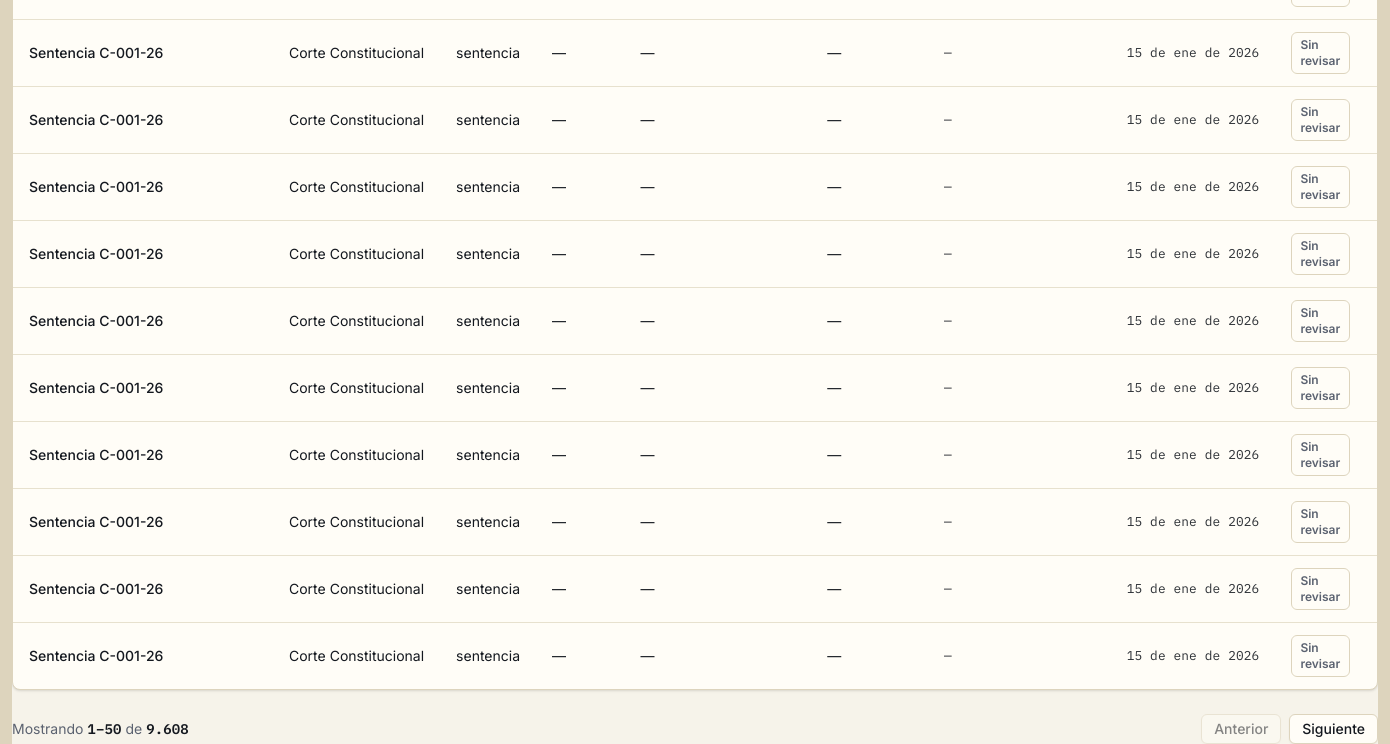
Scenario: DocumentsPage › shows the current range and total (thousands-grouped) in the pagination footer
(page scrolled)
Expected: the text "1–50" is shown, 87,720 -> 122,738
Expected: the text "9.608" is shown, 146,720 -> 189,738
Step 1. Click the button "Siguiente" → (1334, 729), box 1289,714 -> 1378,743
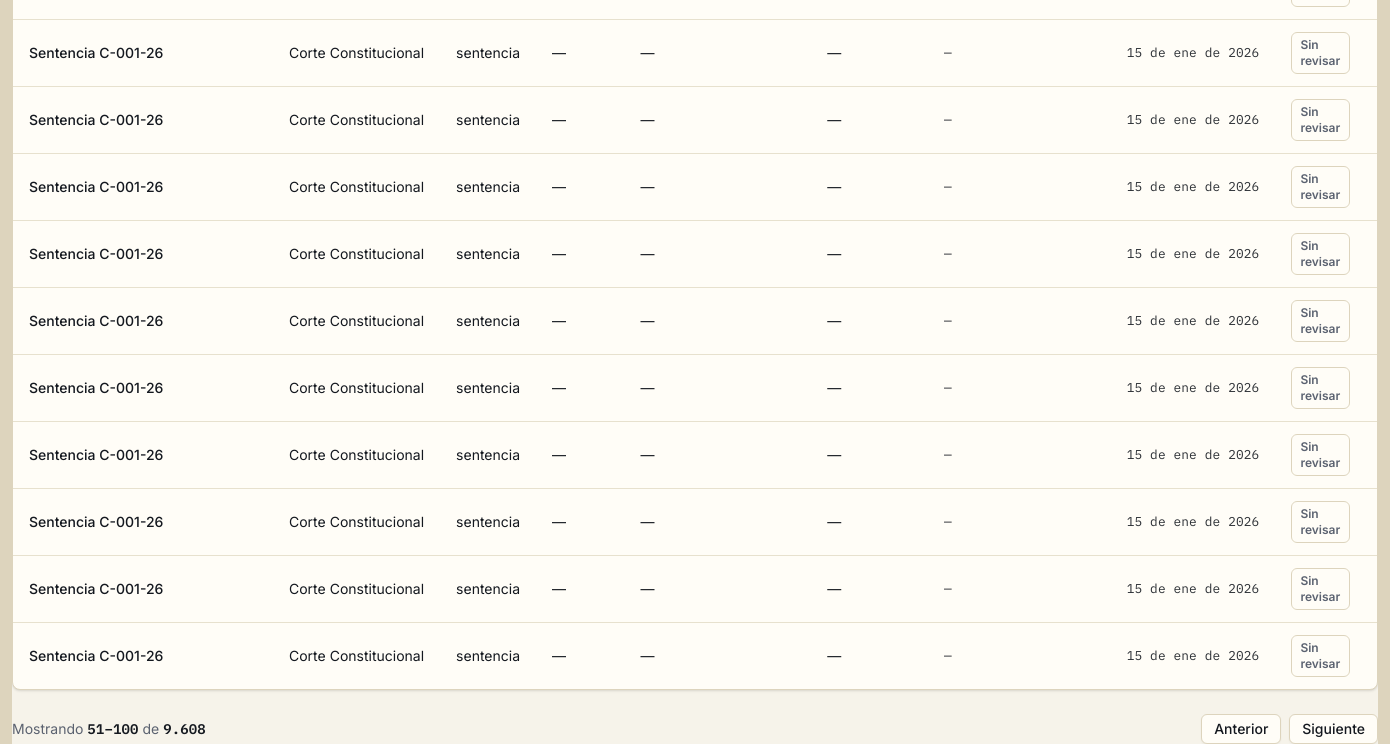
Expected: the text "9.608" is shown, 163,720 -> 206,738
Expected: the text "51–100" is shown, 87,720 -> 139,738
